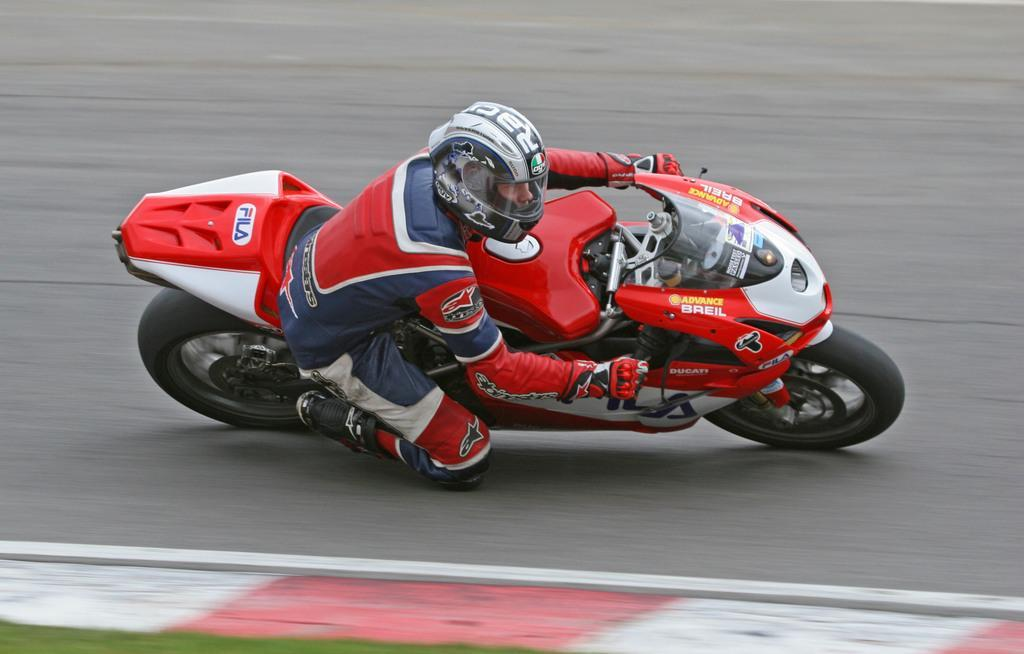helmet: (428, 101, 550, 245)
